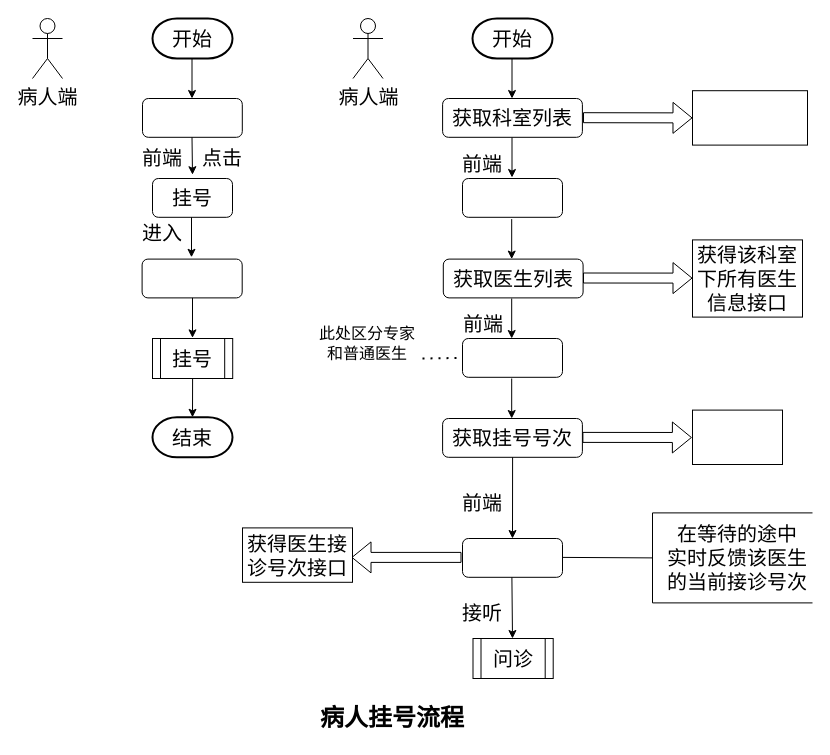
Image size: 830x755. Some labels were removed from this diagram. Each missing label, with the centre of its shape:
导航页面: the point at 192,117
开始等待: the point at 512,557
挂号页面: the point at 191,278
获得所有科室信息接口: the point at 750,117
获得挂号 号次接口: the point at 737,436
选择医生: the point at 512,357
选择科室: the point at 512,197
